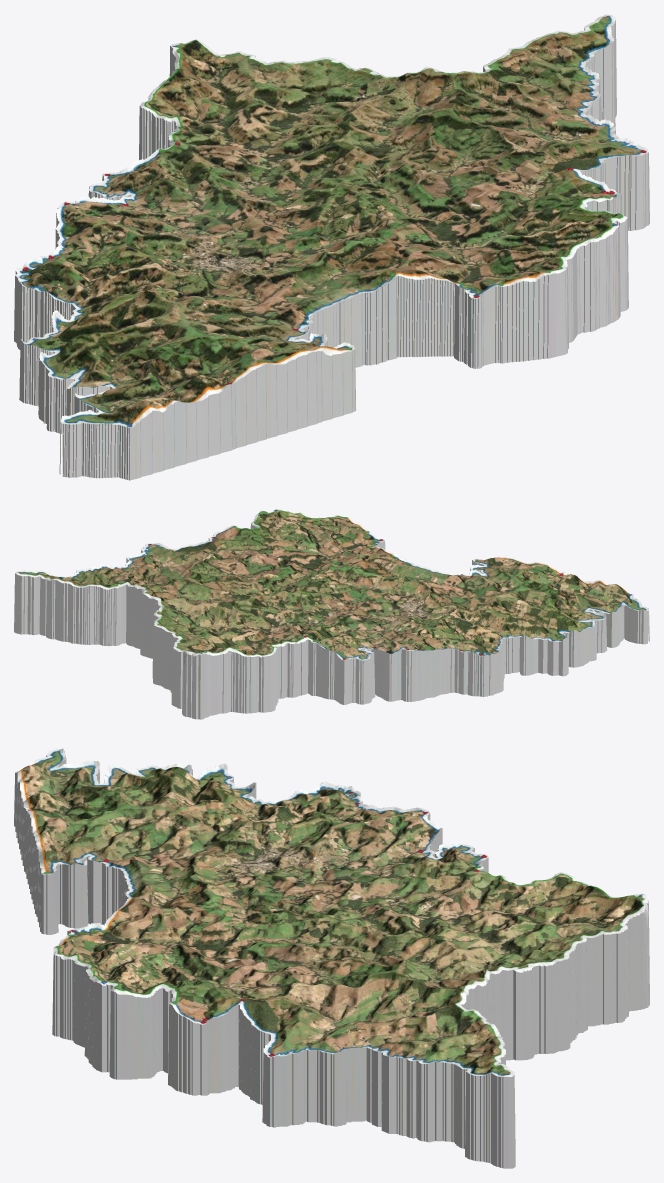
The picture shows the model from 3 angles, top to bottom: view 1: azimuth 30°, elevation 25°; view 2: azimuth 150°, elevation 25°; view 3: azimuth 270°, elevation 25°; orthographic projection. The views are drawn at different scales.
Bounding box in the file's own units: 1 × 0.1267 × 0.7284.
1 material, 1 textured.
